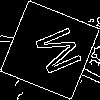M: (25, 25, 83, 81)
